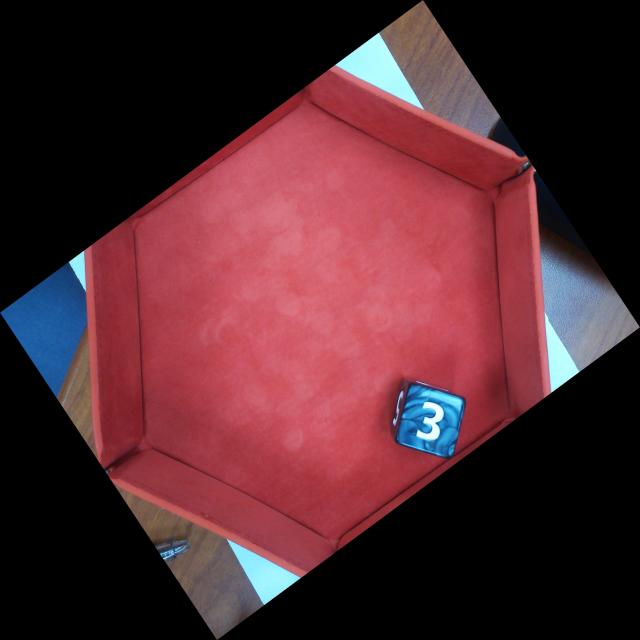dice: (395, 382, 467, 459)
